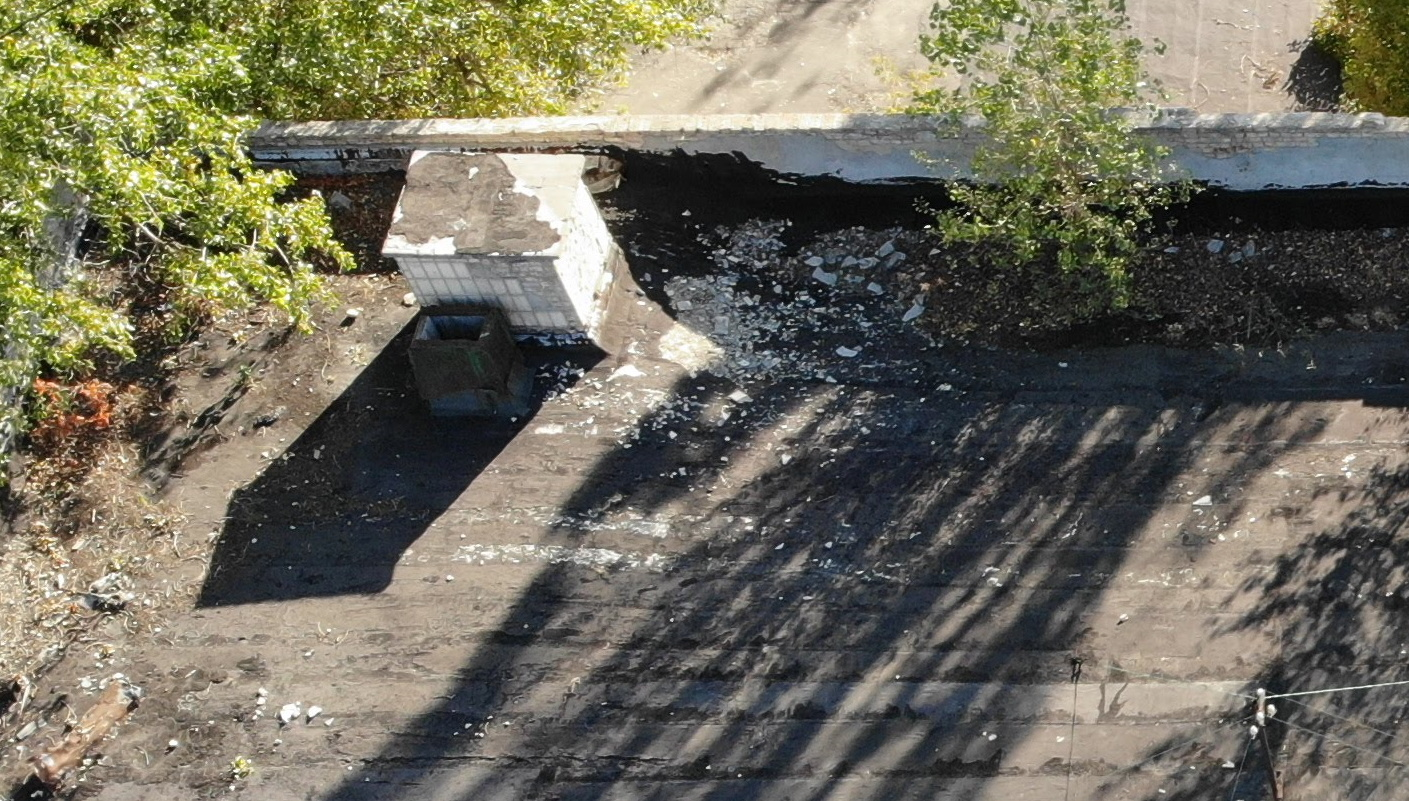tree: (899, 4, 1219, 350), (132, 105, 380, 358)
